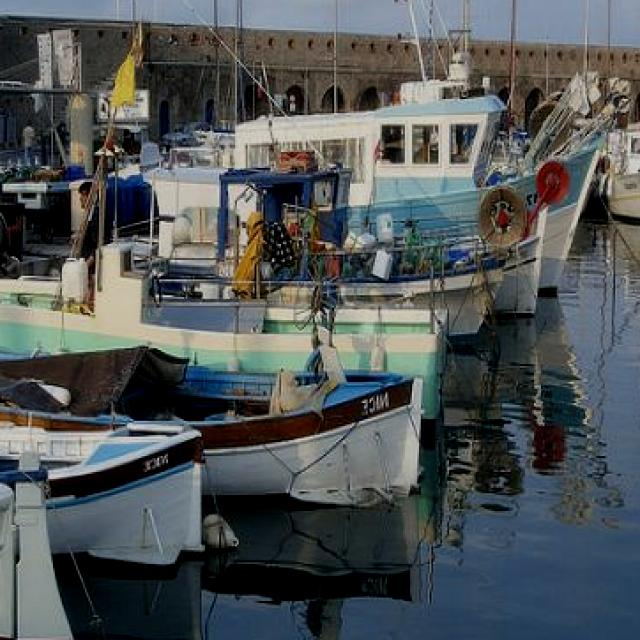ship: (155, 75, 602, 302), (28, 144, 506, 339), (140, 112, 566, 318), (0, 274, 449, 444), (0, 334, 426, 504), (0, 418, 242, 554), (610, 0, 640, 228)
